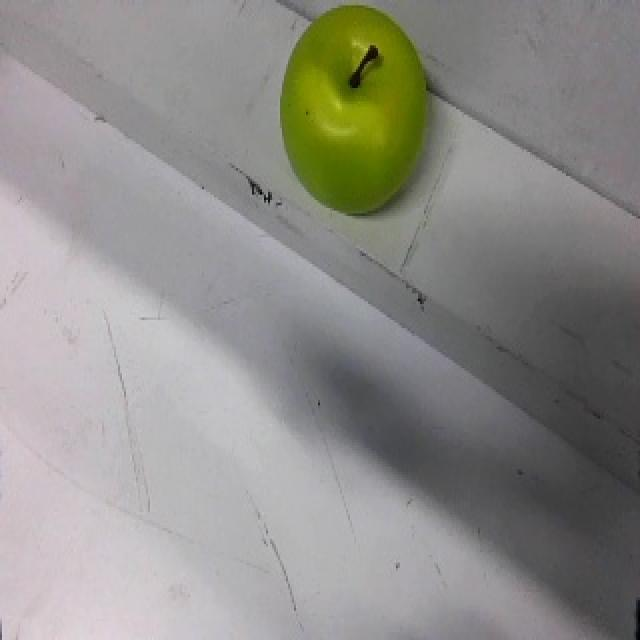apple: (278, 1, 432, 217)
